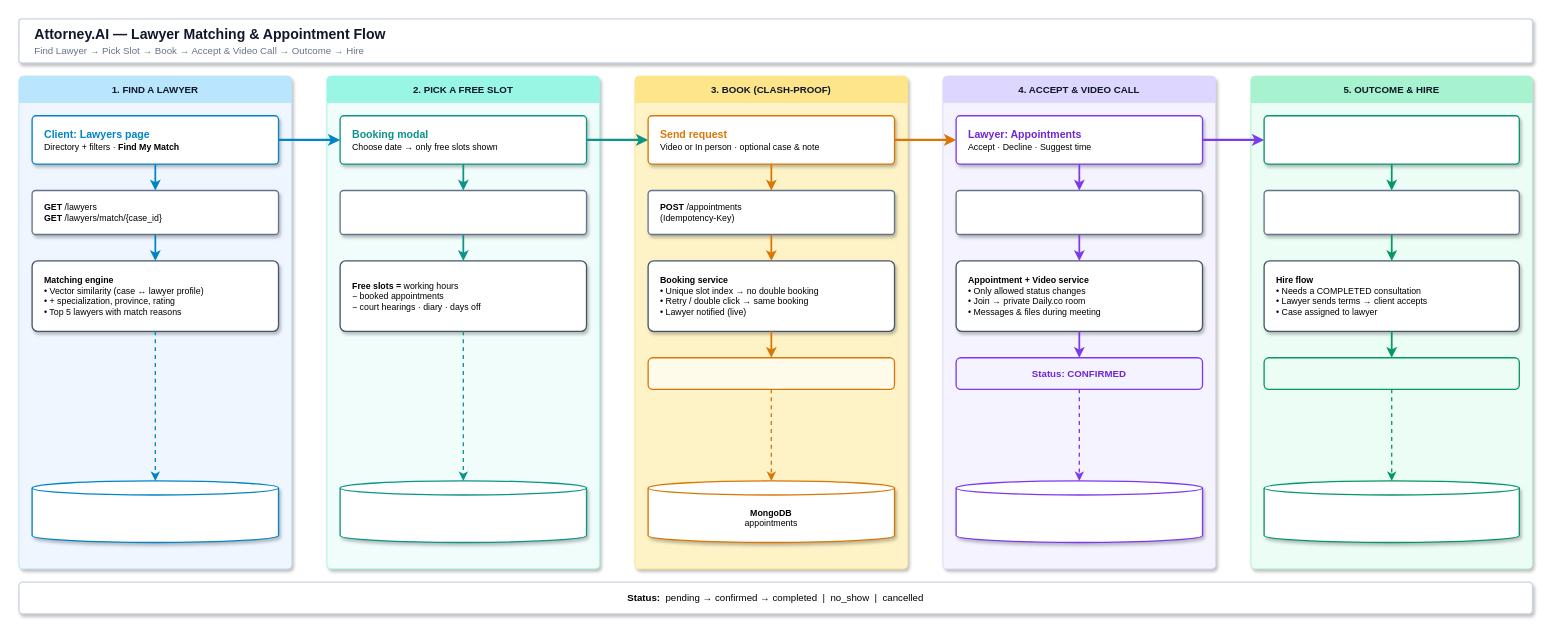
The diagram is 1554 pixels wide and 636 high, and some of its shapes have lost their labels. Each missing label, with the centre of its shape:
"After the meeting Lawyer: Completed / No-show Client: Request to hire · Review" goes at point 1392,141.
"ChromaDB (lawyer vectors) MongoDB users" goes at point 156,512.
"GET /lawyers/{id}/bookable-slots" goes at point 464,213.
"MongoDB + Daily.co appointments · messages" goes at point 1080,512.
"MongoDB engagements · cases · lawyer_reviews" goes at point 1392,512.
"MongoDB lawyer_availability · appointments" goes at point 464,512.
"PATCH /appointments/{id}/complete POST /engagements (hire)" goes at point 1392,213.
"PATCH /appointments/{id}/confirm POST /appointment-video/{id}/join" goes at point 1080,213.
"Status: COMPLETED → CASE" goes at point 1391,373.
"Status: PENDING" goes at point 771,373.
